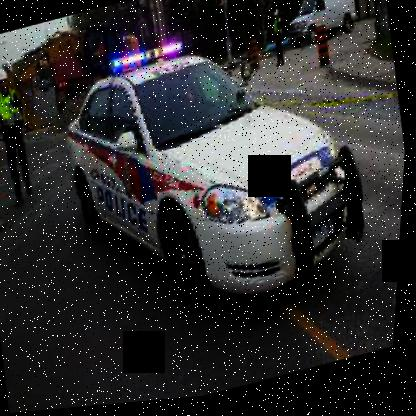emergency: (50, 0, 397, 374)
